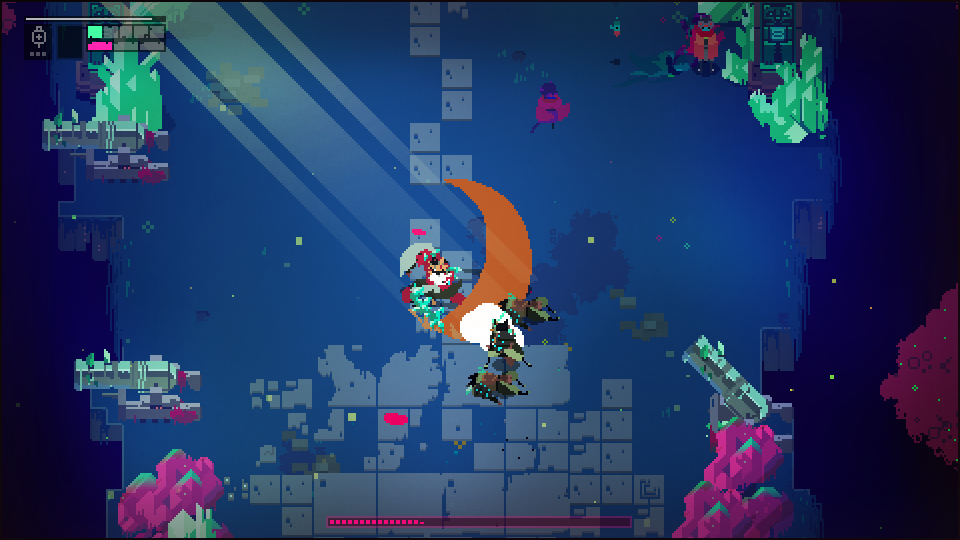hanged_man: (394, 230, 485, 342)
player: (689, 15, 722, 78)
